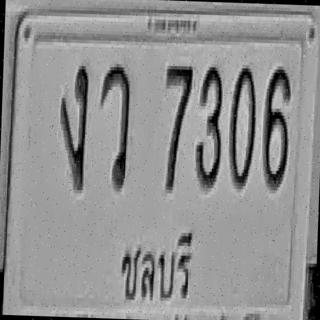A07: (57, 62, 90, 190)
A37: (97, 62, 131, 190)
N00: (227, 63, 257, 188)
N03: (194, 63, 223, 188)
N06: (262, 64, 291, 189)
N07: (162, 62, 193, 190)
P13: (117, 223, 198, 315)
